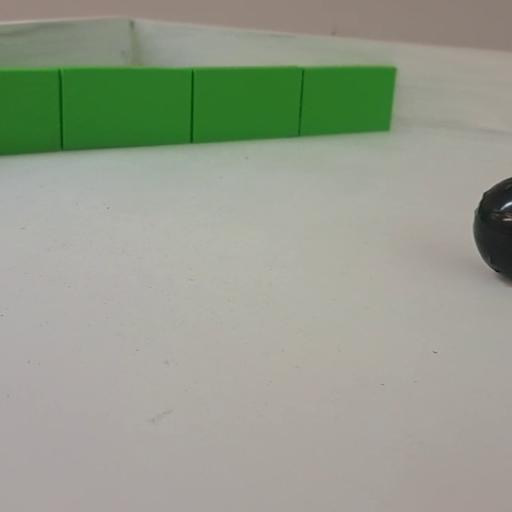dead: (475, 177, 512, 280)
